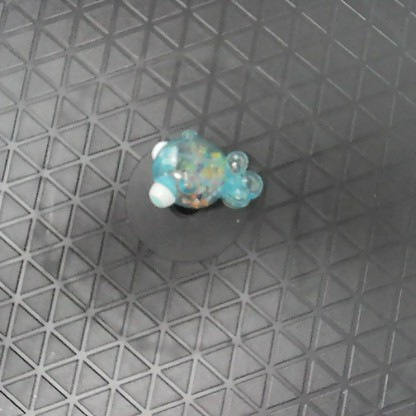bluefish: (144, 126, 266, 221)
